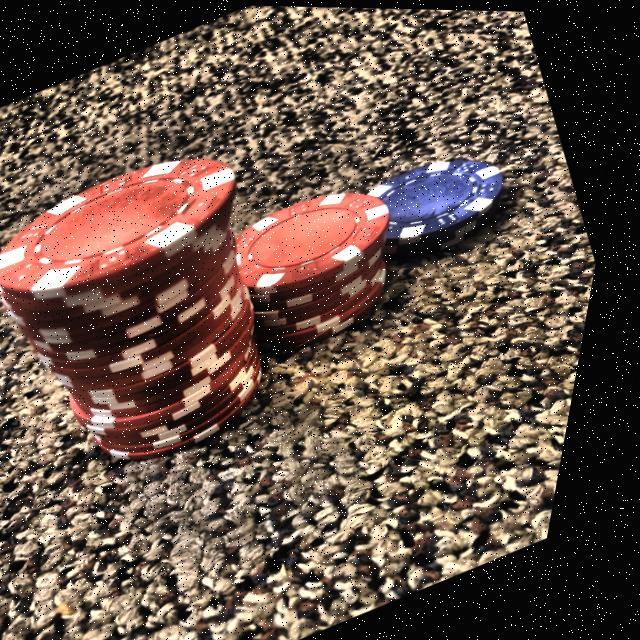Chip: (0, 125, 353, 505), (207, 164, 446, 369), (348, 130, 538, 280)
